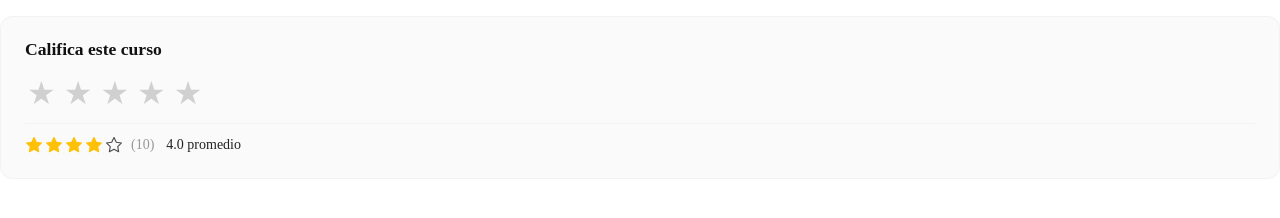
Scenario: RatingSection › Interacción — calificar › actualiza el promedio después de calificar
Click the button named "Calificar con 5 estrellas" at (188, 93), box [172,75,204,111]
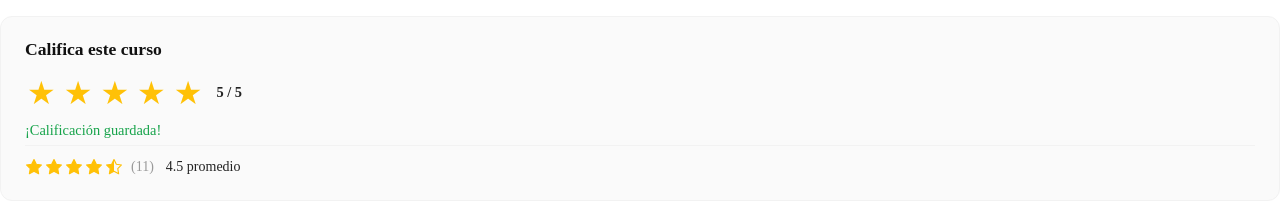
Expected: the text "4.5 promedio" is shown, [166,160,240,174]
